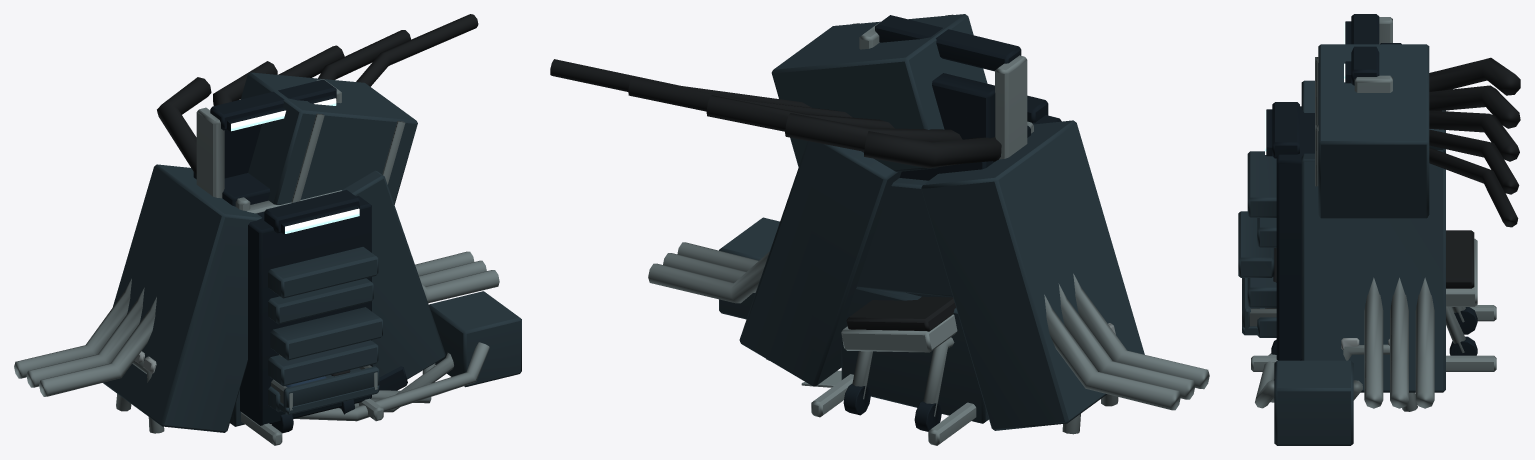
The model's file is incidents.glb.
3 renders of one model, left to right at view 1: azimuth 30°, elevation 25°; view 2: azimuth 150°, elevation 25°; view 3: azimuth 270°, elevation 25°, orthographic. The views are drawn at different scales.
Visible parts, largest first — view 1: split-plenum--e9-body, shifted-load--e9-body, relay-sled--e9-body, relay-sled--e9-dark, split-plenum--p11-steel, split-plenum--p11-rubber, bypass--e9-body, bypass--p11-steel, bypass--e9-dark, sealed-berth--e9-body, shifted-load--p11-steel, sealed-berth--e9-dark (+6 smaller); view 2: split-plenum--e9-body, shifted-load--e9-body, split-plenum--p11-steel, split-plenum--p11-rubber, bypass--e9-dark, escaped-gurney--p11-steel, bypass--p11-steel, escaped-gurney--p11-rubber, bypass--e9-body, relay-sled--p11-steel, escaped-gurney--e9-dark, sealed-berth--e9-dark; view 3: split-plenum--e9-body, shifted-load--e9-body, split-plenum--p11-rubber, relay-sled--e9-dark, bypass--e9-body, split-plenum--p11-steel, relay-sled--e9-body, bypass--e9-dark, bypass--p11-steel, escaped-gurney--p11-rubber, relay-sled--p11-steel, escaped-gurney--p11-steel (+7 smaller).
Boxes of the visible parts, left/top/right/bottom form: split-plenum--e9-body: left=103, top=164, right=445, bottom=432; shifted-load--e9-body: left=230, top=72, right=417, bottom=426; relay-sled--e9-body: left=268, top=247, right=382, bottom=412; relay-sled--e9-dark: left=240, top=190, right=371, bottom=425; split-plenum--p11-steel: left=14, top=251, right=499, bottom=396; split-plenum--p11-rubber: left=157, top=14, right=478, bottom=175; bypass--e9-body: left=429, top=291, right=521, bottom=387; bypass--p11-steel: left=196, top=79, right=489, bottom=421; bypass--e9-dark: left=210, top=79, right=336, bottom=178; sealed-berth--e9-body: left=279, top=366, right=379, bottom=415; shifted-load--p11-steel: left=291, top=113, right=405, bottom=202; sealed-berth--e9-dark: left=193, top=172, right=270, bottom=206; split-plenum--e9-body: left=739, top=120, right=1144, bottom=430; shifted-load--e9-body: left=771, top=14, right=988, bottom=423; split-plenum--p11-steel: left=648, top=242, right=1209, bottom=410; split-plenum--p11-rubber: left=550, top=59, right=1001, bottom=168; bypass--e9-dark: left=875, top=15, right=1021, bottom=139; escaped-gurney--p11-steel: left=841, top=314, right=957, bottom=416; bypass--p11-steel: left=859, top=21, right=1027, bottom=159; escaped-gurney--p11-rubber: left=846, top=296, right=955, bottom=331; bypass--e9-body: left=719, top=217, right=779, bottom=319; relay-sled--p11-steel: left=811, top=374, right=976, bottom=445; escaped-gurney--e9-dark: left=843, top=384, right=941, bottom=431; sealed-berth--e9-dark: left=899, top=125, right=1030, bottom=180; split-plenum--e9-body: left=1301, top=80, right=1445, bottom=392; shifted-load--e9-body: left=1318, top=44, right=1429, bottom=218; split-plenum--p11-rubber: left=1429, top=57, right=1520, bottom=227; relay-sled--e9-dark: left=1266, top=102, right=1314, bottom=360; bypass--e9-body: left=1274, top=360, right=1353, bottom=445; split-plenum--p11-steel: left=1364, top=277, right=1434, bottom=408; relay-sled--e9-body: left=1238, top=151, right=1276, bottom=337; bypass--e9-dark: left=1345, top=14, right=1401, bottom=85; bypass--p11-steel: left=1255, top=17, right=1392, bottom=408; escaped-gurney--p11-rubber: left=1273, top=230, right=1474, bottom=288; relay-sled--p11-steel: left=1251, top=305, right=1496, bottom=371; escaped-gurney--p11-steel: left=1446, top=238, right=1477, bottom=352.
Bounding box in the file's own units: 5.51 × 3.2 × 2.65.
